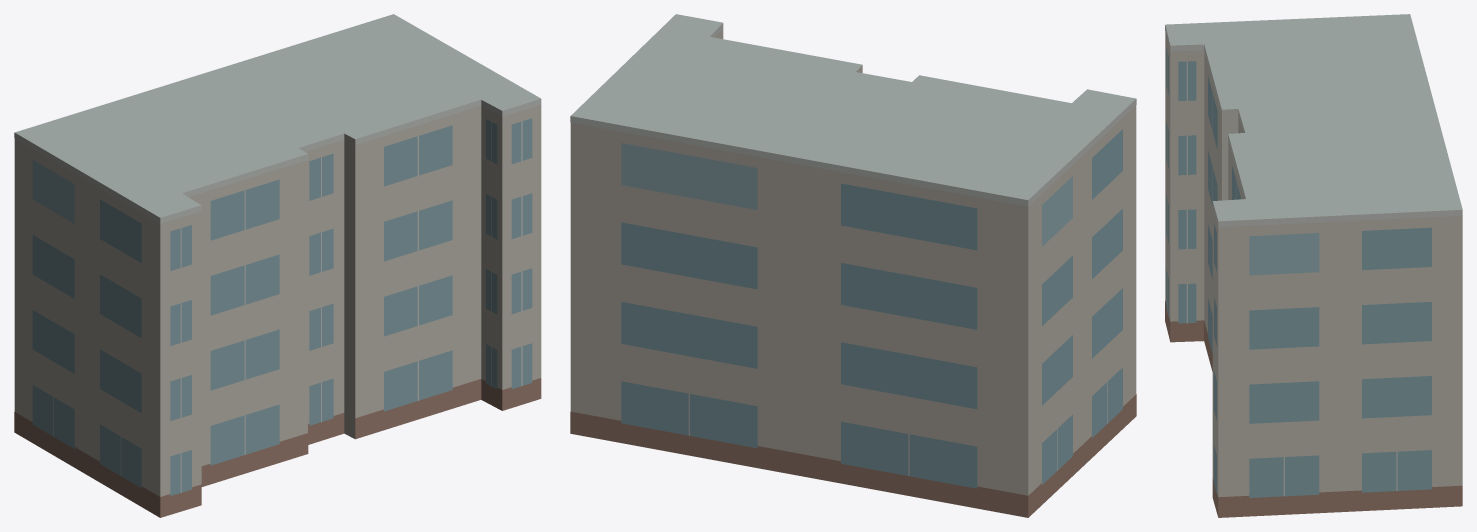
File: survey-upis-32942988.glb
The picture shows the model from 3 angles, left to right: view 1: azimuth 30°, elevation 25°; view 2: azimuth 150°, elevation 25°; view 3: azimuth 270°, elevation 25°; orthographic projection. The views are drawn at different scales.
Visible parts, largest first — view 1: survey-upis-32942988.tmp; view 2: survey-upis-32942988.tmp; view 3: survey-upis-32942988.tmp.
Part boxes in pixels (bbox=[...]): survey-upis-32942988.tmp: bbox=[14, 14, 541, 517]; survey-upis-32942988.tmp: bbox=[570, 14, 1136, 517]; survey-upis-32942988.tmp: bbox=[1165, 14, 1462, 517].
Bounding box in the file's own units: 18.3 × 12.2 × 11.1.
